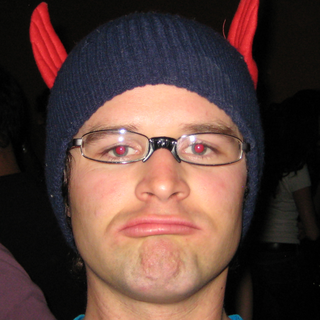eye: (96, 142, 142, 164), (177, 139, 223, 161)
